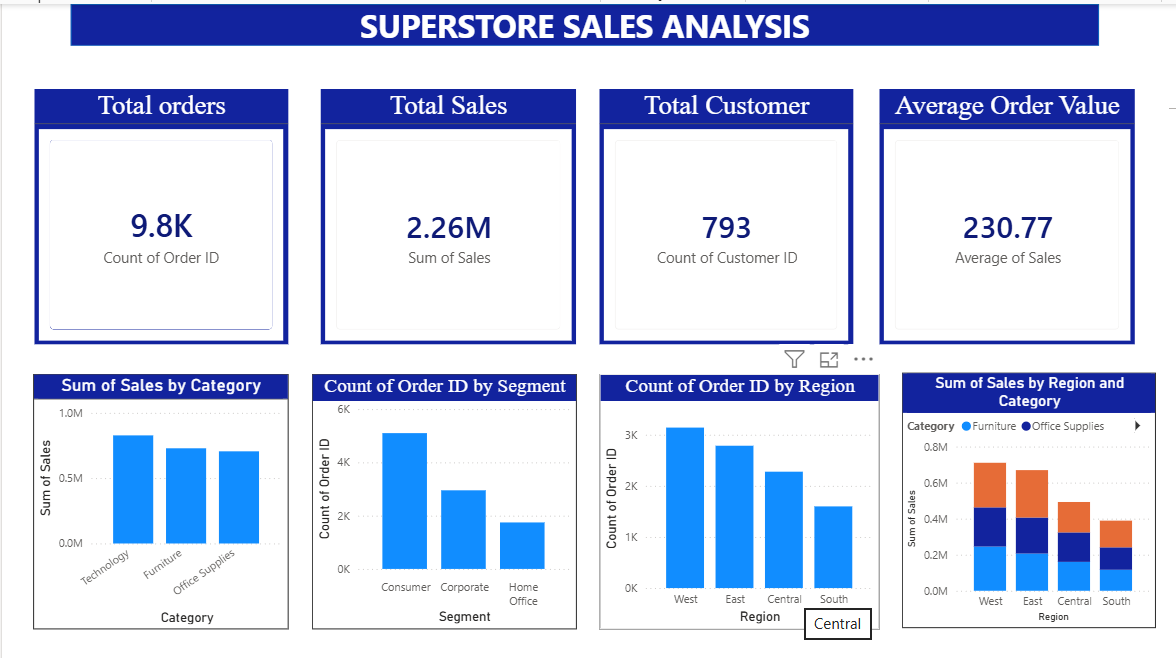

Layout of this report page (visuals, bound fields, positions):
{"tool":"powerbi","page":{"name":"Page 1","canvas":[1280,720],"ordinal":0},"visuals":[{"type":"cardVisual","title":" 📦Total orders","fields":{"Data":["CountNonNull(superstore_sales_dataset.Order ID)"]},"box":[36.1,93.4,278.7,280.3],"z":0},{"type":"cardVisual","title":"💰Total Sales","fields":{"Data":["Sum(superstore_sales_dataset.Sales)"]},"box":[349.2,93.4,280.3,280.3],"z":1000},{"type":"cardVisual","title":"👥Total Customer","fields":{"Data":["Count(superstore_sales_dataset.Customer ID)"]},"box":[655.7,93.4,278.7,280.3],"z":2000},{"type":"cardVisual","title":"📈 Avg Order Value","fields":{"Data":["Avg(superstore_sales_dataset.Sales)"]},"box":[962.3,93.4,280.3,280.3],"z":3000},{"type":"clusteredColumnChart","title":" Sales by Category","fields":{"Category":["superstore_sales_dataset.Category"],"Y":["Sum(superstore_sales_dataset.Sales)"]},"box":[34.3,405.8,279.7,279.7],"z":4000},{"type":"clusteredColumnChart","title":"Orders by Segment","fields":{"Category":["superstore_sales_dataset.Segment"],"Y":["CountNonNull(superstore_sales_dataset.Order ID)"]},"box":[340,405.7,290,280],"z":5000},{"type":"clusteredColumnChart","title":"Orders by Region","fields":{"Category":["superstore_sales_dataset.Region"],"Y":["CountNonNull(superstore_sales_dataset.Order ID)"]},"box":[655.7,405.7,307.1,280],"z":6000},{"type":"columnChart","title":"Sales by Region and Category","fields":{"Category":["superstore_sales_dataset.Region"],"Series":["superstore_sales_dataset.Category"],"Y":["Sum(superstore_sales_dataset.Sales)"]},"box":[981.7,405.8,278.3,281.1],"z":7000},{"type":"shape","box":[75.4,0,1127.9,45.9],"z":8000}]}

Visuals, with their boxes in screenshot pixels (x1, y1, x2, y2), scaled from the page's 1280x720 canvas onto the 1176x658 screenshot:
" 📦Total orders" cardVisual: x1=33, y1=85, x2=289, y2=342
"💰Total Sales" cardVisual: x1=321, y1=85, x2=578, y2=342
"👥Total Customer" cardVisual: x1=602, y1=85, x2=858, y2=342
"📈 Avg Order Value" cardVisual: x1=884, y1=85, x2=1142, y2=342
" Sales by Category" clusteredColumnChart: x1=32, y1=371, x2=288, y2=626
"Orders by Segment" clusteredColumnChart: x1=312, y1=371, x2=579, y2=627
"Orders by Region" clusteredColumnChart: x1=602, y1=371, x2=885, y2=627
"Sales by Region and Category" columnChart: x1=902, y1=371, x2=1158, y2=628
shape: x1=69, y1=0, x2=1106, y2=42
